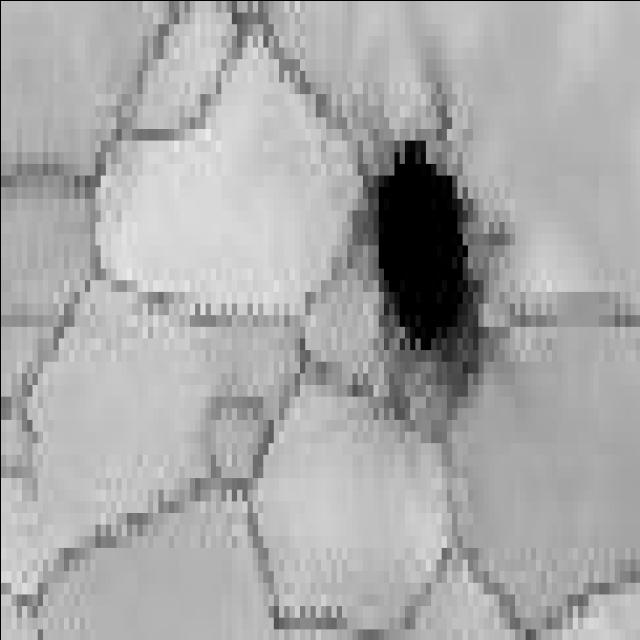good_void: (350, 87, 514, 435)
